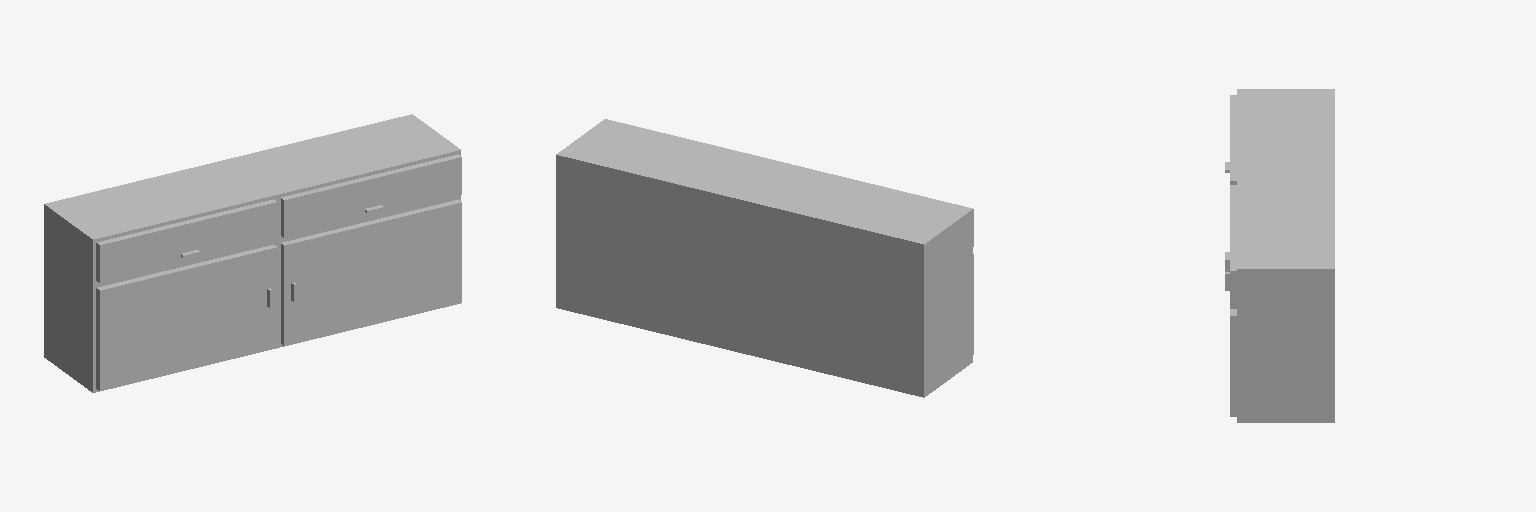
The model's file is cupboard.2.obj.
The picture shows the model from 3 angles: view 1: azimuth 30°, elevation 25°; view 2: azimuth 150°, elevation 25°; view 3: azimuth 270°, elevation 25°; orthographic projection.
Visible parts, largest first — view 1: Cube.025; view 2: Cube.025; view 3: Cube.025.
Boxes of the visible parts, box(x1,y1,x2,y2) form: Cube.025: box(44, 114, 461, 392); Cube.025: box(556, 119, 973, 397); Cube.025: box(1225, 89, 1334, 422).
Size of the model in its own units: 8.68 by 3.45 by 2.27.